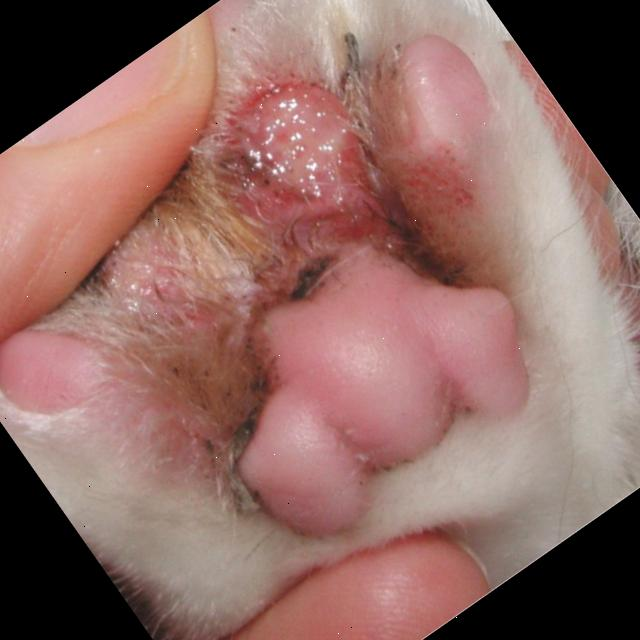cat-lump-and-bump: (216, 68, 387, 244), (109, 229, 221, 343)
